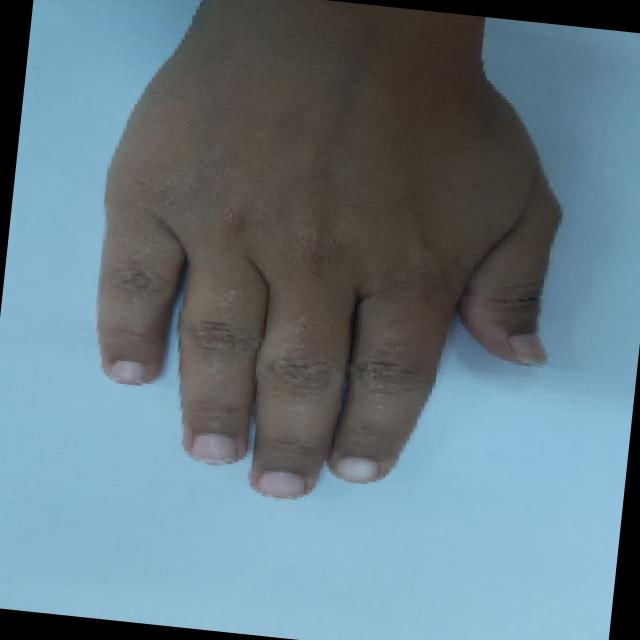Nail: (189, 432, 237, 463), (252, 469, 304, 497), (506, 332, 545, 363), (333, 455, 376, 481), (106, 359, 147, 384)
